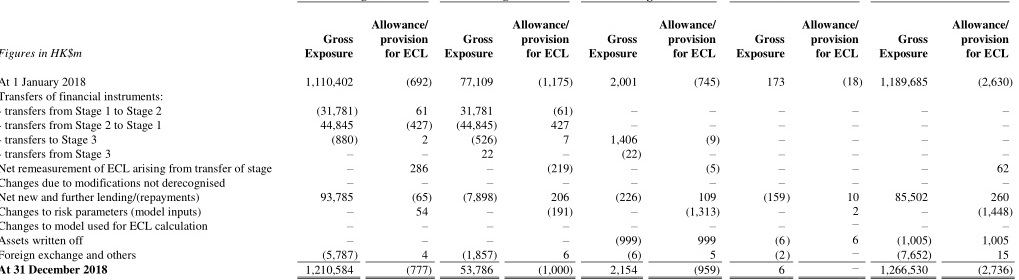column: (1, 1, 271, 280), (658, 1, 722, 280), (801, 1, 864, 280), (371, 1, 433, 280), (511, 1, 573, 280), (952, 1, 1013, 280), (736, 1, 792, 280), (444, 1, 499, 280), (588, 1, 643, 280), (877, 1, 932, 280), (305, 1, 359, 280)
row: (1, 76, 1019, 89), (1, 177, 1019, 190), (1, 206, 1019, 219), (1, 18, 1019, 30), (1, 47, 1019, 59), (1, 90, 1019, 102), (1, 105, 1019, 117), (1, 134, 1019, 146), (1, 149, 1019, 161), (1, 163, 1019, 175), (1, 191, 1019, 203), (1, 221, 1019, 233), (1, 235, 1019, 247), (1, 264, 1019, 276), (1, 33, 1019, 44), (1, 249, 1019, 260), (1, 121, 1019, 131)
